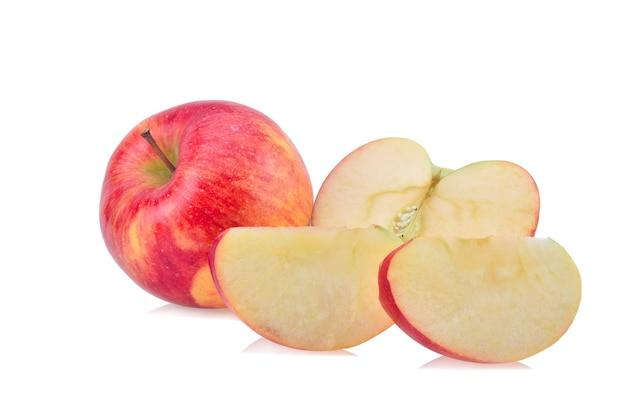apples: (75, 79, 586, 388)
